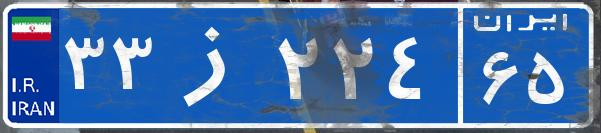2: (273, 28, 330, 110), (330, 28, 385, 110)
3: (57, 26, 110, 107), (110, 28, 158, 105)
4: (385, 28, 445, 110)
5: (525, 38, 570, 115)
6: (475, 38, 525, 113)
ز: (158, 15, 273, 115)
